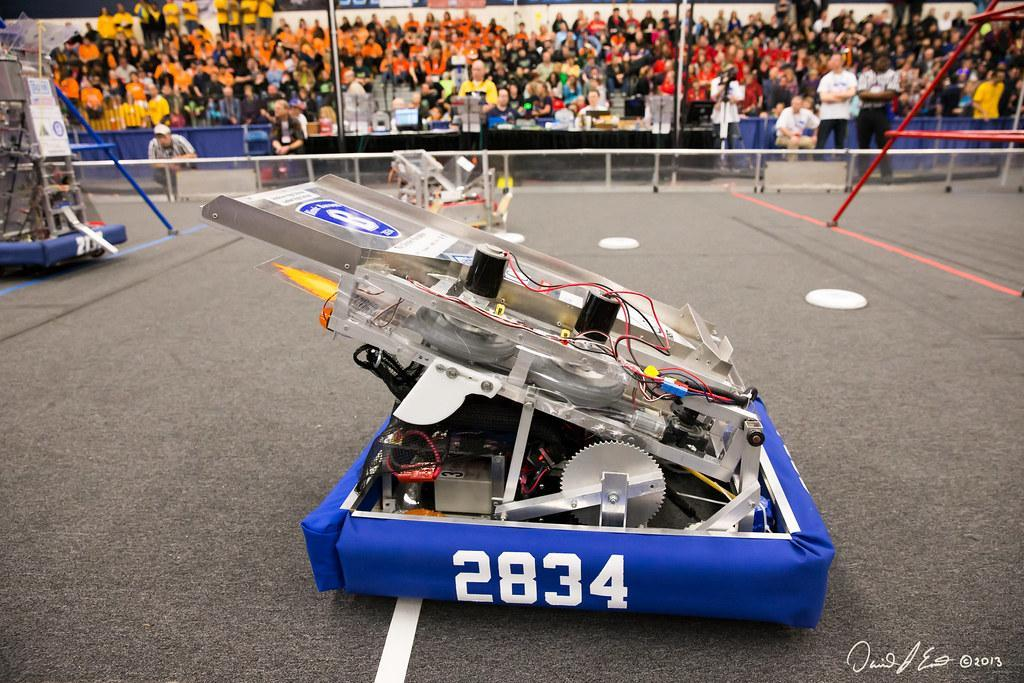robot: (187, 170, 842, 636)
